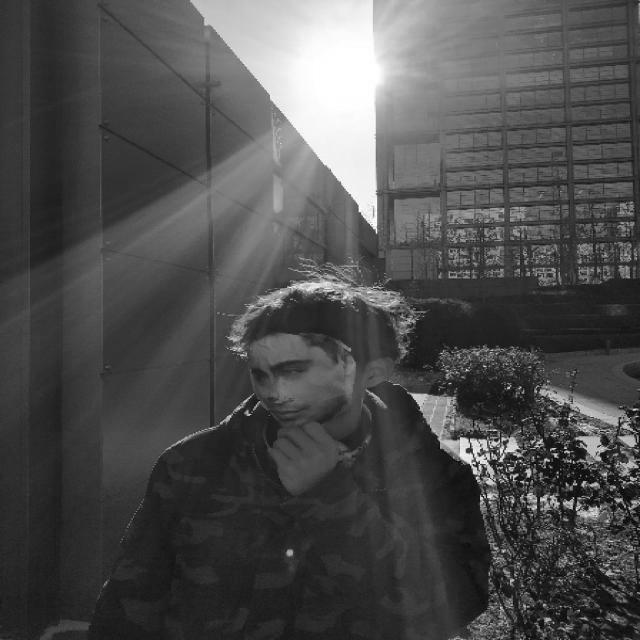fake: (222, 273, 436, 430)
